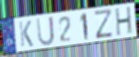1: (80, 12, 89, 40)
2: (58, 15, 72, 43)
H: (115, 6, 133, 38)
K: (18, 20, 34, 49)
U: (35, 15, 56, 47)
Z: (93, 8, 115, 41)
